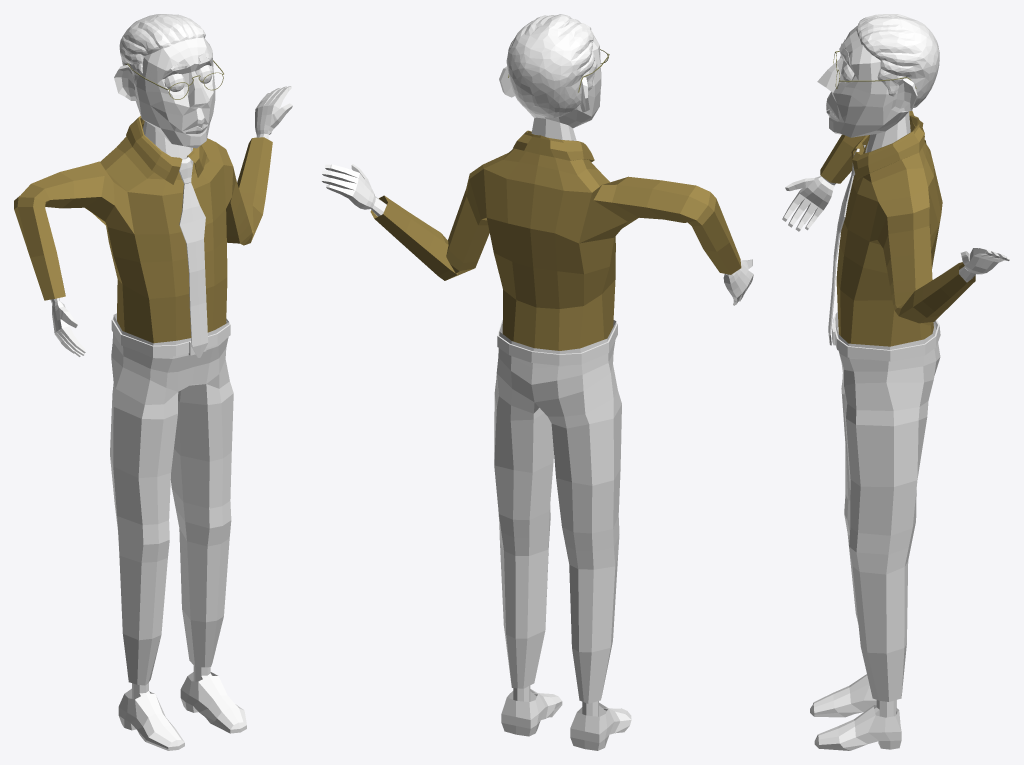
Rendered from gus.obj.
3 views of the same model, side by side, from view 1: azimuth 30°, elevation 25°; view 2: azimuth 150°, elevation 25°; view 3: azimuth 270°, elevation 25° (orthographic). The views are drawn at different scales.
Visible parts, largest first — view 1: Cube.033, Cube.037, Cube.038, Cube.028, Cube.036, Cube.040, Cube.039, Cube.032, Cube.030, Cube.029; view 2: Cube.037, Cube.033, Cube.036, Cube.038, Cube.039, Cube.040, Cube.030, Cube.032, Cube.029; view 3: Cube.033, Cube.037, Cube.038, Cube.036, Cube.040, Cube.029, Cube.039, Cube.032, Cube.030, Cube.028.
Boxes of the visible parts, bbox=[...] form: Cube.033: bbox=[110, 313, 233, 685]; Cube.037: bbox=[14, 116, 272, 343]; Cube.038: bbox=[114, 37, 215, 158]; Cube.028: bbox=[179, 156, 208, 357]; Cube.036: bbox=[119, 14, 205, 86]; Cube.040: bbox=[180, 672, 246, 733]; Cube.039: bbox=[118, 688, 184, 750]; Cube.032: bbox=[111, 318, 230, 356]; Cube.030: bbox=[255, 86, 292, 139]; Cube.029: bbox=[50, 298, 85, 356]; Cube.037: bbox=[370, 130, 741, 350]; Cube.033: bbox=[494, 320, 621, 703]; Cube.036: bbox=[506, 14, 597, 118]; Cube.038: bbox=[499, 35, 601, 140]; Cube.039: bbox=[570, 702, 631, 750]; Cube.040: bbox=[501, 689, 562, 736]; Cube.030: bbox=[321, 164, 386, 216]; Cube.032: bbox=[497, 319, 617, 365]; Cube.029: bbox=[723, 259, 753, 305]; Cube.033: bbox=[835, 311, 940, 701]; Cube.037: bbox=[820, 111, 975, 346]; Cube.038: bbox=[817, 26, 917, 152]; Cube.036: bbox=[856, 14, 939, 107]; Cube.040: bbox=[814, 705, 901, 750]; Cube.029: bbox=[782, 176, 835, 231]; Cube.039: bbox=[810, 674, 896, 717]; Cube.032: bbox=[833, 315, 940, 361]; Cube.030: bbox=[959, 248, 1009, 282]; Cube.028: bbox=[828, 145, 865, 345].
Bounding box in the file's own units: 1.48 × 3.02 × 0.8818.
